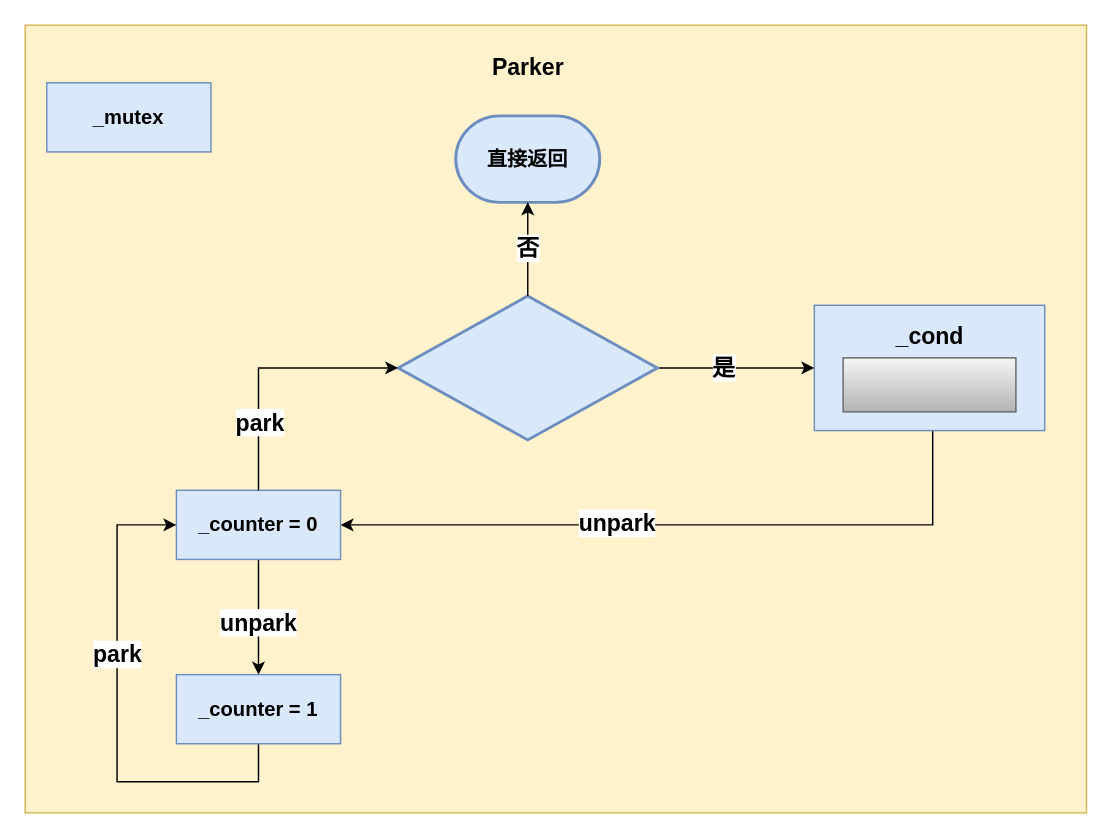
This 1116x838 diagram has some shape labels left out. The shapes that lost their labels are listed below. From the top down, each one's box as (x1, y1, x2, y2) in pixels, then its label:
(396, 294, 658, 441): interrupted == false
(842, 356, 1016, 412): Thread
